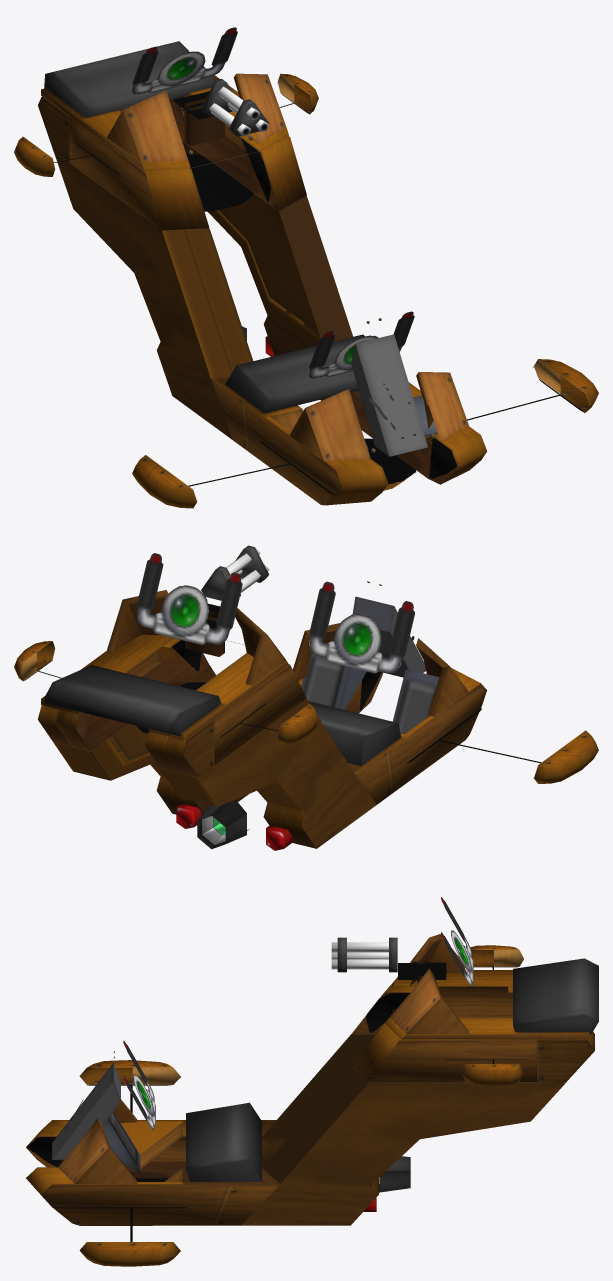
File: twin_practice01.glb
3 views of the same model, one above another, from view 1: azimuth 30°, elevation 25°; view 2: azimuth 150°, elevation 25°; view 3: azimuth 270°, elevation 25° (orthographic). The views are drawn at different scales.
Parts seen in each view (by area): view 1: twin_practice01; view 2: twin_practice01; view 3: twin_practice01.
Part boxes in pixels (<box>): twin_practice01: <box>14,27,598,508</box>; twin_practice01: <box>14,545,598,850</box>; twin_practice01: <box>26,897,598,1266</box>.
Bounding box in the file's own units: 2.31 × 1.64 × 2.92.
Materials: 4 (4 with a texture image).
